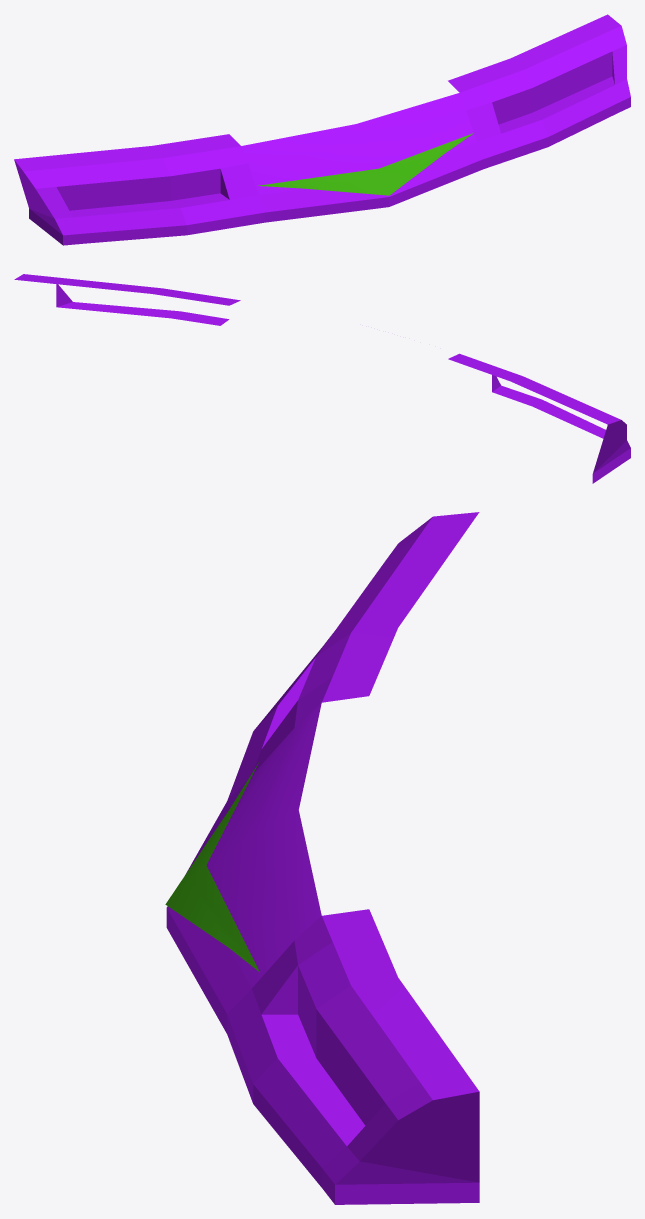
Rendered from LuxBumper00C03.gltf.
The picture shows the model from 3 angles, top to bottom: view 1: azimuth 30°, elevation 25°; view 2: azimuth 150°, elevation 25°; view 3: azimuth 270°, elevation 25°; orthographic projection. The views are drawn at different scales.
Visible parts, largest first — view 1: LuxBumper00C03; view 2: LuxBumper00C03; view 3: LuxBumper00C03.
Part boxes in pixels (<box>): LuxBumper00C03: <box>14,14,630,245</box>; LuxBumper00C03: <box>14,274,630,483</box>; LuxBumper00C03: <box>165,512,479,1204</box>.
Bounding box in the file's own units: 0.1824 × 0.0184 × 0.0415.
Materials: 1 (1 with a texture image).
